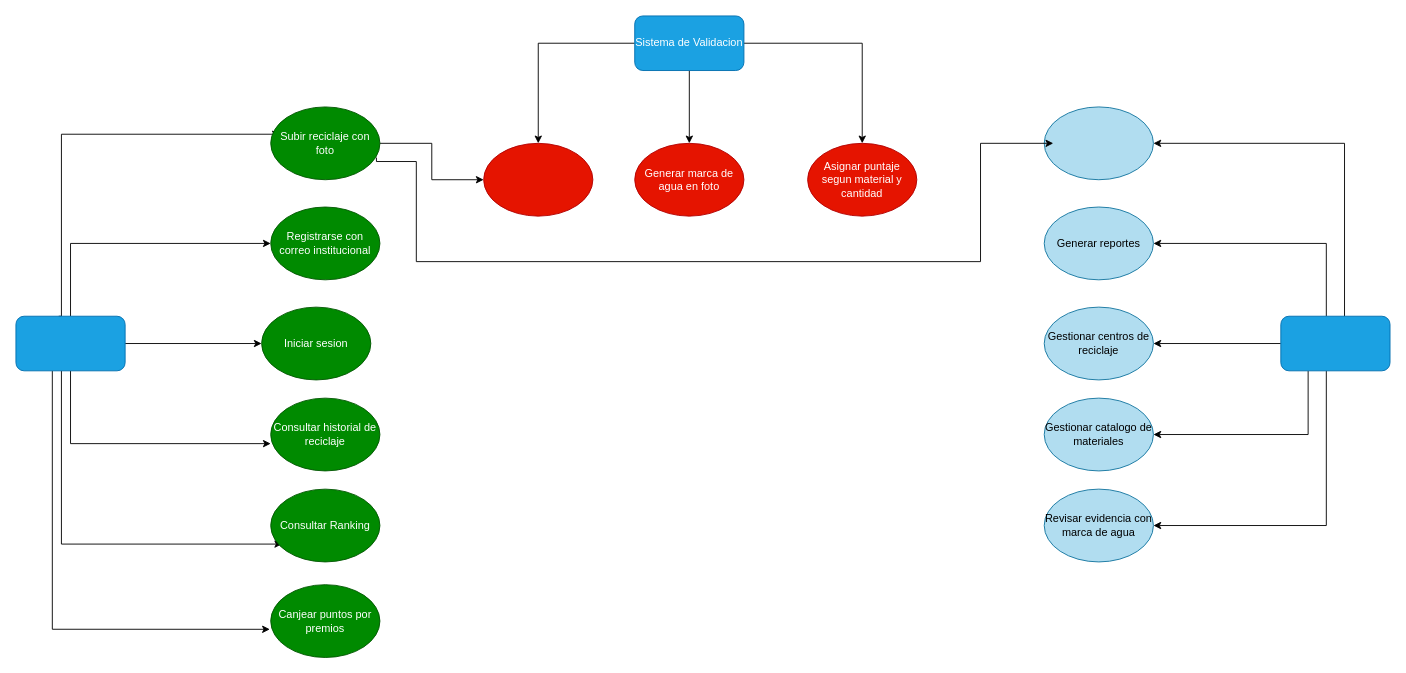
Some shapes in this 1406 by 673 pixel diagram are drawn without their labels. Each missing label, with the box of its shape:
Administrador: (1280, 315, 1390, 371)
Usuario: (15, 315, 125, 371)
Validar reciclaje automatico: (483, 142, 593, 216)
Validar reciclaje manual: (1043, 106, 1153, 180)
